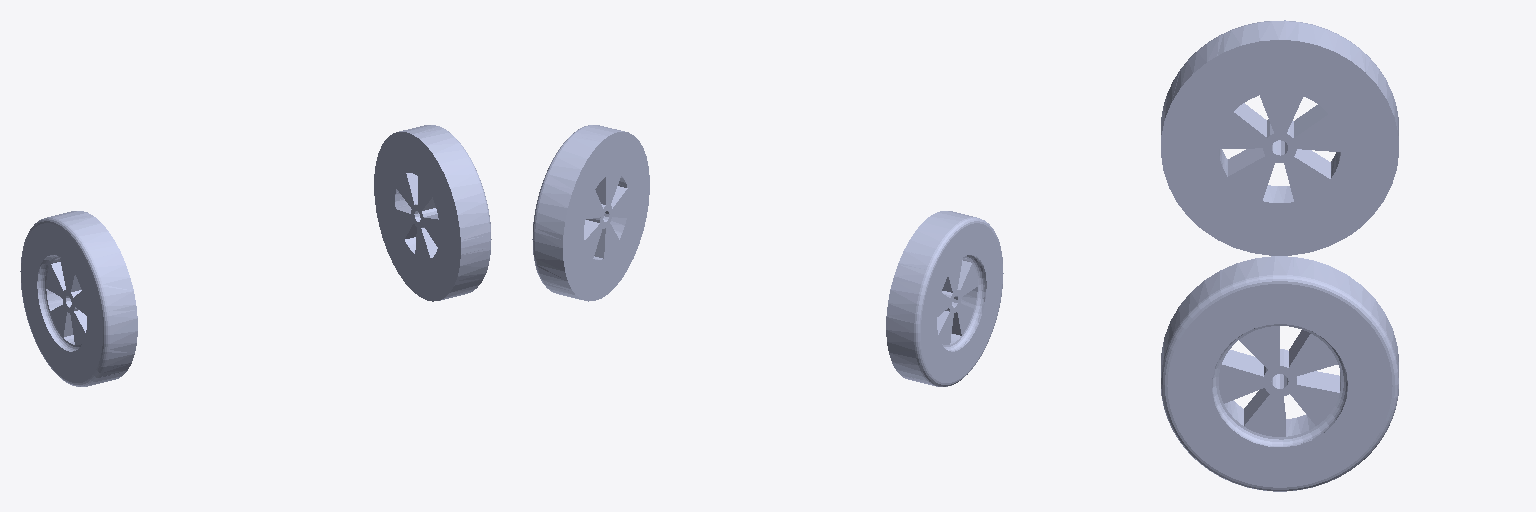
The robot description file, URDF, robot "urdf13":
<?xml version="1.0" encoding="utf-8"?>
<!-- This URDF was automatically created by SolidWorks to URDF Exporter! Originally created by [author] ([email redacted]) 
     Commit Version: 1.6.0-1-g15f4949  Build Version: 1.6.7594.29634
     For more information, please see http://wiki.ros.org/sw_urdf_exporter -->
<robot
  name="urdf13">
  <link
    name="base_link">
    <inertial>
      <origin
        xyz="-1.1517E-17 0.022088 0.009928"
        rpy="0 0 0" />
      <mass
        value="0.73548" />
      <inertia
        ixx="0.0035158"
        ixy="1.0487E-18"
        ixz="1.8809E-21"
        iyy="0.0018588"
        iyz="5.1248E-06"
        izz="0.0053257" />
    </inertial>
    <visual>
      <origin
        xyz="0 0 0"
        rpy="0 0 0" />
      <geometry>
        <mesh
          filename="package://urdf13/meshes/base_link.STL" />
      </geometry>
      <material
        name="">
        <color
          rgba="0.79216 0.81961 0.93333 1" />
      </material>
    </visual>
    <collision>
      <origin
        xyz="0 0 0"
        rpy="0 0 0" />
      <geometry>
        <mesh
          filename="package://urdf13/meshes/base_link.STL" />
      </geometry>
    </collision>
  </link>
  <link
    name="RF">
    <inertial>
      <origin
        xyz="0 5.2042E-18 -0.0078272"
        rpy="0 0 0" />
      <mass
        value="0.048944" />
      <inertia
        ixx="1.7662E-05"
        ixy="-8.3518E-22"
        ixz="-3.5812E-22"
        iyy="1.7662E-05"
        iyz="1.6676E-22"
        izz="3.3601E-05" />
    </inertial>
    <visual>
      <origin
        xyz="0 0 0"
        rpy="0 0 0" />
      <geometry>
        <mesh
          filename="package://urdf13/meshes/RF.STL" />
      </geometry>
      <material
        name="">
        <color
          rgba="0.79216 0.81961 0.93333 1" />
      </material>
    </visual>
    <collision>
      <origin
        xyz="0 0 0"
        rpy="0 0 0" />
      <geometry>
        <mesh
          filename="package://urdf13/meshes/RF.STL" />
      </geometry>
    </collision>
  </link>
  <joint
    name="RFJ"
    type="continuous">
    <origin
      xyz="0.09 0.05 0.01"
      rpy="-1.5708 0 -1.5708" />
    <parent
      link="base_link" />
    <child
      link="RF" />
    <axis
      xyz="0 0 0" />
  </joint>
  <link
    name="RB">
    <inertial>
      <origin
        xyz="0 3.4694E-18 -0.0078272"
        rpy="0 0 0" />
      <mass
        value="0.048944" />
      <inertia
        ixx="1.7662E-05"
        ixy="-6.7683E-22"
        ixz="3.0059E-23"
        iyy="1.7662E-05"
        iyz="1.5362E-22"
        izz="3.3601E-05" />
    </inertial>
    <visual>
      <origin
        xyz="0 0 0"
        rpy="0 0 0" />
      <geometry>
        <mesh
          filename="package://urdf13/meshes/RB.STL" />
      </geometry>
      <material
        name="">
        <color
          rgba="0.79216 0.81961 0.93333 1" />
      </material>
    </visual>
    <collision>
      <origin
        xyz="0 0 0"
        rpy="0 0 0" />
      <geometry>
        <mesh
          filename="package://urdf13/meshes/RB.STL" />
      </geometry>
    </collision>
  </link>
  <joint
    name="RBJ"
    type="continuous">
    <origin
      xyz="0.09 -0.06 0.01"
      rpy="-1.5708 0 -1.5708" />
    <parent
      link="base_link" />
    <child
      link="RB" />
    <axis
      xyz="0 0 0" />
  </joint>
  <link
    name="LF">
    <inertial>
      <origin
        xyz="-3.4694E-18 -6.9389E-18 0.0078272"
        rpy="0 0 0" />
      <mass
        value="0.048944" />
      <inertia
        ixx="1.7662E-05"
        ixy="0"
        ixz="4.4085E-22"
        iyy="1.7662E-05"
        iyz="3.1417E-22"
        izz="3.3601E-05" />
    </inertial>
    <visual>
      <origin
        xyz="0 0 0"
        rpy="0 0 0" />
      <geometry>
        <mesh
          filename="package://urdf13/meshes/LF.STL" />
      </geometry>
      <material
        name="">
        <color
          rgba="0.79216 0.81961 0.93333 1" />
      </material>
    </visual>
    <collision>
      <origin
        xyz="0 0 0"
        rpy="0 0 0" />
      <geometry>
        <mesh
          filename="package://urdf13/meshes/LF.STL" />
      </geometry>
    </collision>
  </link>
  <joint
    name="LFJ"
    type="continuous">
    <origin
      xyz="-0.09 0.05 0.01"
      rpy="1.5708 0.91772 1.5708" />
    <parent
      link="base_link" />
    <child
      link="LF" />
    <axis
      xyz="0 0 0" />
  </joint>
  <link
    name="LB">
    <inertial>
      <origin
        xyz="0 0 0"
        rpy="0 0 0" />
      <mass
        value="0" />
      <inertia
        ixx="0"
        ixy="0"
        ixz="0"
        iyy="0"
        iyz="0"
        izz="0" />
    </inertial>
    <visual>
      <origin
        xyz="0 0 0"
        rpy="0 0 0" />
      <geometry>
        <mesh
          filename="package://urdf13/meshes/LB.STL" />
      </geometry>
      <material
        name="">
        <color
          rgba="1 1 1 1" />
      </material>
    </visual>
    <collision>
      <origin
        xyz="0 0 0"
        rpy="0 0 0" />
      <geometry>
        <mesh
          filename="package://urdf13/meshes/LB.STL" />
      </geometry>
    </collision>
  </link>
  <joint
    name="LBJ"
    type="continuous">
    <origin
      xyz="-0.09 -0.06 0.01"
      rpy="1.5708 -0.58406 1.5708" />
    <parent
      link="base_link" />
    <child
      link="LB" />
    <axis
      xyz="0 0 0" />
  </joint>
</robot>

--- Facts derived from the render (not from the file) ---
The picture shows the robot from 3 angles, left to right: view 1: azimuth 30°, elevation 25°; view 2: azimuth 150°, elevation 25°; view 3: azimuth 270°, elevation 25°; orthographic projection.
Robot: urdf13 — 5 links, 4 joints (4 continuous); root link base_link; default pose: every joint at zero.
Visible links, largest first — view 1: RF, LF; view 2: RF, LF; view 3: LF, RF.
Link boxes in pixels (box(x1,y1,x2,y2)): RF: box(374, 125, 491, 301); LF: box(20, 211, 137, 386); RF: box(532, 125, 649, 301); LF: box(886, 211, 1003, 386); LF: box(1161, 20, 1398, 255); RF: box(1161, 256, 1398, 491).
Size in the robot's own frame: 0.18 by 0.07 by 0.07 metres.
Meshes: 5 distinct files referenced, 2 mesh visuals loaded (2 binary STL); not drawn: 3 (reference not matched to a file when rendering).